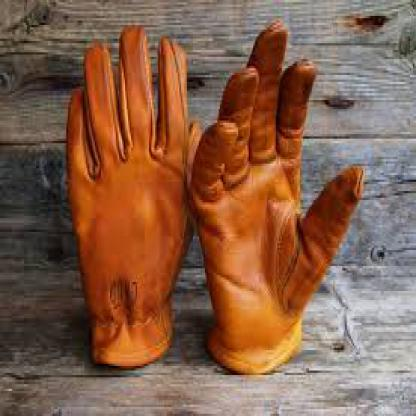with_gloves: (193, 21, 363, 375), (65, 25, 194, 368)
